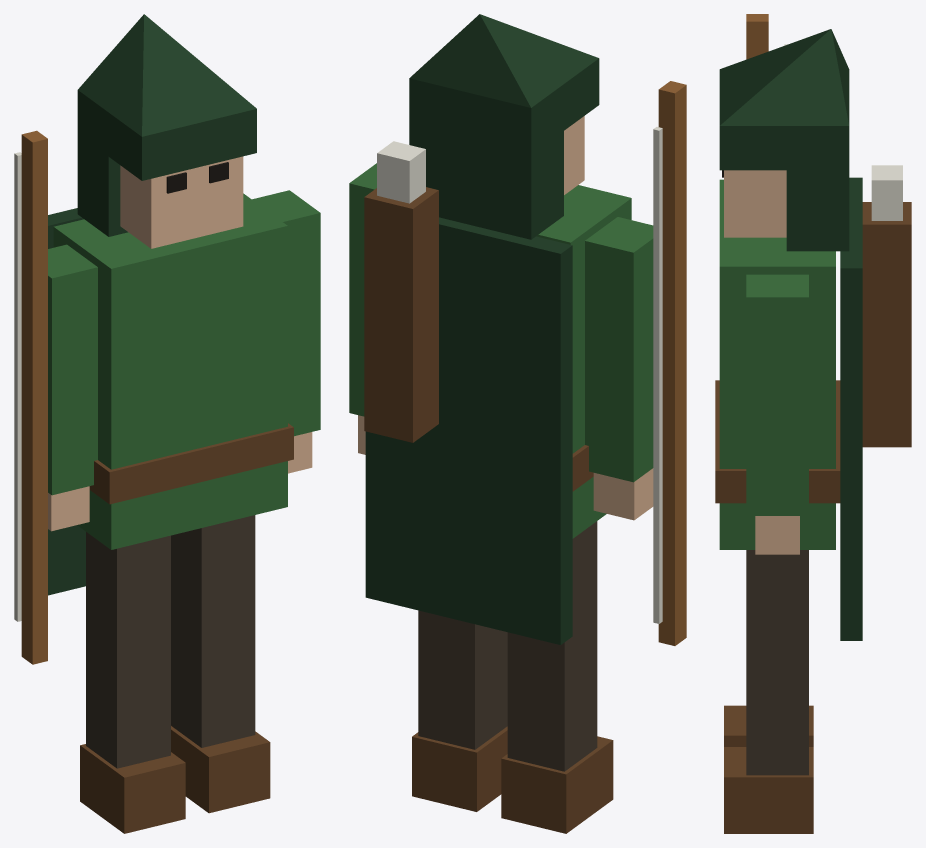
File: ranger_placeholder.glb
The picture shows the model from 3 angles, left to right: view 1: azimuth 30°, elevation 25°; view 2: azimuth 150°, elevation 25°; view 3: azimuth 270°, elevation 25°; orthographic projection. The views are drawn at different scales.
Visible parts, largest first — view 1: ranger_placeholder; view 2: ranger_placeholder; view 3: ranger_placeholder.
Part boxes in pixels (x1=…): ranger_placeholder: x1=14, y1=14, x2=320, y2=833; ranger_placeholder: x1=349, y1=14, x2=686, y2=833; ranger_placeholder: x1=715, y1=14, x2=911, y2=833.
Bounding box in the file's own units: 0.75 × 1.9 × 0.44.
1 material, 1 textured.
